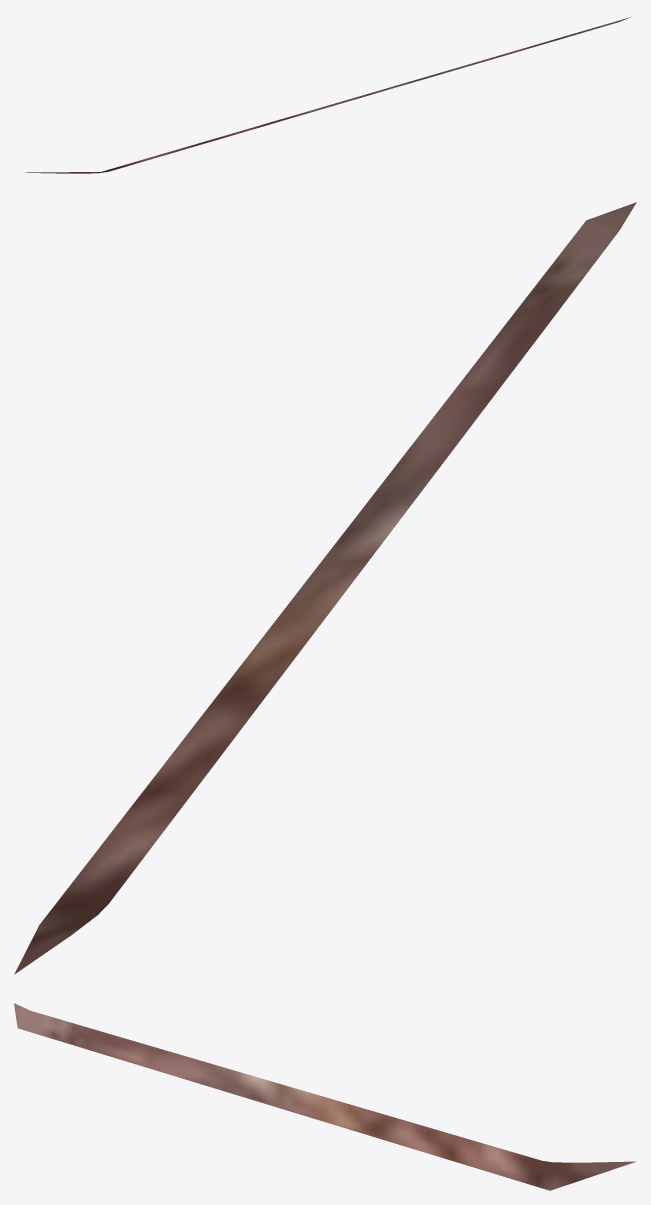
The picture shows the model from 3 angles, top to bottom: view 1: azimuth 90°, elevation 25°; view 2: azimuth 150°, elevation 25°; view 3: azimuth 270°, elevation 25°; orthographic projection. The views are drawn at different scales.
Bounding box in the file's own units: 0.1 × 0.5375 × 1.76.
Materials: 1 (1 with a texture image).
